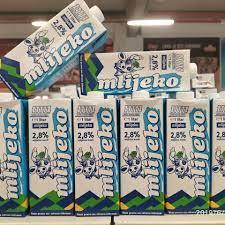cardboard: (0, 0, 107, 98), (74, 91, 118, 214), (120, 91, 163, 213), (80, 49, 196, 94), (29, 96, 73, 214), (165, 99, 209, 211), (0, 88, 28, 215), (209, 91, 224, 209), (219, 37, 224, 89)
